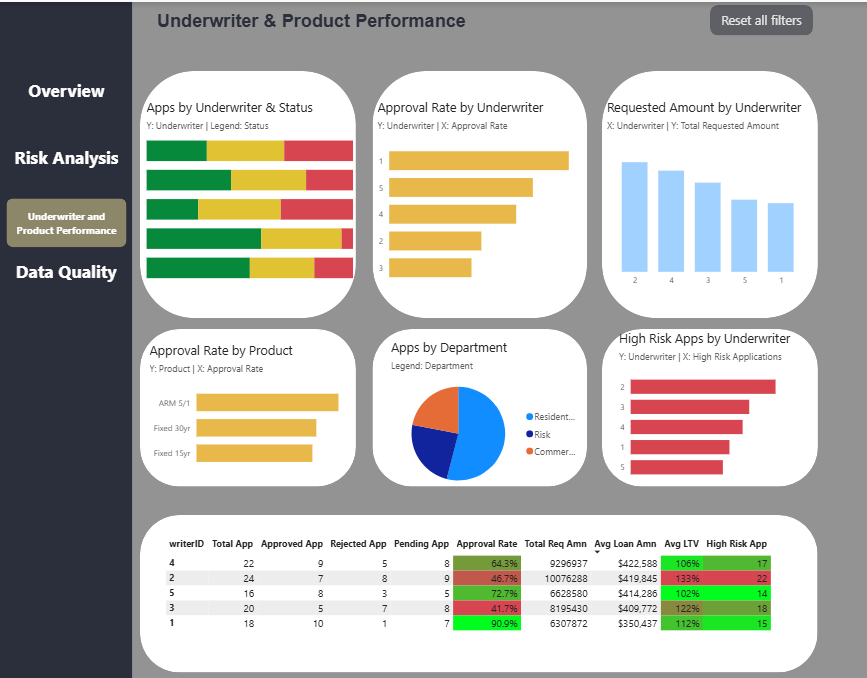

The dashboard page shown, as its layout file describes it:
{"tool":"powerbi","page":{"name":"Underwriter and Product Performance","canvas":[1280,1000],"ordinal":2},"visuals":[{"type":"shape","box":[0,0,196,1000],"z":0},{"type":"actionButton","box":[11.1,101.1,176.7,55.6],"z":1000},{"type":"actionButton","box":[11.7,201.7,176.7,55],"z":2000},{"type":"actionButton","box":[11.7,288.3,176.7,71.7],"z":3000},{"type":"textbox","title":"fdg","box":[212,4,496,44],"z":4000},{"type":"shape","box":[1046.7,3.5,151.7,45],"z":5000},{"type":"shape","box":[208,102,318,364],"z":6000},{"type":"shape","box":[550,102,316,364],"z":7000},{"type":"shape","box":[888,102,318,364],"z":8000},{"type":"shape","box":[208,482,318,232],"z":9000},{"type":"shape","box":[550,482,316,232],"z":10000},{"type":"shape","box":[888,482,318,232],"z":11000},{"type":"hundredPercentStackedBarChart","title":" Apps by Underwriter & Status","fields":{"Category":["DimUnderwriters.UnderwriterID"],"Series":["FactApplications.Status"],"Y":["Mesures.Total Applications"]},"box":[212,142,314,272],"z":12000},{"type":"clusteredBarChart","title":"Approval Rate by Underwriter","fields":{"Category":["DimUnderwriters.UnderwriterID"],"Y":["Mesures.Approval Rate"]},"box":[552,142,318,286],"z":13000},{"type":"clusteredColumnChart","title":"Requested Amount by Underwriter","fields":{"Category":["DimUnderwriters.UnderwriterID"],"Y":["Mesures.Total Requested Amount"]},"box":[890,142,308,286],"z":14000},{"type":"clusteredBarChart","title":"Approval Rate by Product","fields":{"Category":["DimProducts.ProductName"],"Y":["Mesures.Approval Rate"]},"box":[216,500,318,200],"z":15000},{"type":"pieChart","title":"Apps by Department","fields":{"Category":["DimUnderwriters.Department"],"Y":["Mesures.Total Applications"]},"box":[572,494,294,232],"z":16000},{"type":"clusteredBarChart","title":"High Risk Apps by Underwriter","fields":{"Category":["DimUnderwriters.UnderwriterID"],"Y":["Mesures.High Risk Applications"]},"box":[908,482,318,232],"z":17000},{"type":"shape","box":[208,756,998,232],"z":18000},{"type":"pivotTable","fields":{"Rows":["DimUnderwriters.UnderwriterID"],"Values":["Mesures.Total Applications","Mesures.Approved Applications","Mesures.Rejected Applications","Mesures.Pending Applications","Mesures.Approval Rate","Mesures.Total Requested Amount","Mesures.Average Loan Amount","Mesures.Average LTV","Mesures.High Risk Applications"]},"box":[240,782,930,178],"z":19000},{"type":"actionButton","box":[10,360,176,72],"z":20000}]}

Visuals, with their boxes in screenshot pixels (x1, y1, x2, y2), scaled from the page's 1280x1000 canvas onto the 867x678 screenshot:
shape: {"x1": 0, "y1": 0, "x2": 133, "y2": 677}
actionButton: {"x1": 8, "y1": 69, "x2": 127, "y2": 106}
actionButton: {"x1": 8, "y1": 137, "x2": 128, "y2": 174}
actionButton: {"x1": 8, "y1": 195, "x2": 128, "y2": 244}
"fdg" textbox: {"x1": 144, "y1": 3, "x2": 480, "y2": 33}
shape: {"x1": 709, "y1": 2, "x2": 812, "y2": 33}
shape: {"x1": 141, "y1": 69, "x2": 356, "y2": 316}
shape: {"x1": 373, "y1": 69, "x2": 587, "y2": 316}
shape: {"x1": 601, "y1": 69, "x2": 817, "y2": 316}
shape: {"x1": 141, "y1": 327, "x2": 356, "y2": 484}
shape: {"x1": 373, "y1": 327, "x2": 587, "y2": 484}
shape: {"x1": 601, "y1": 327, "x2": 817, "y2": 484}
" Apps by Underwriter & Status" hundredPercentStackedBarChart: {"x1": 144, "y1": 96, "x2": 356, "y2": 281}
"Approval Rate by Underwriter" clusteredBarChart: {"x1": 374, "y1": 96, "x2": 589, "y2": 290}
"Requested Amount by Underwriter" clusteredColumnChart: {"x1": 603, "y1": 96, "x2": 811, "y2": 290}
"Approval Rate by Product" clusteredBarChart: {"x1": 146, "y1": 339, "x2": 362, "y2": 475}
"Apps by Department" pieChart: {"x1": 387, "y1": 335, "x2": 587, "y2": 492}
"High Risk Apps by Underwriter" clusteredBarChart: {"x1": 615, "y1": 327, "x2": 830, "y2": 484}
shape: {"x1": 141, "y1": 513, "x2": 817, "y2": 670}
pivotTable - DimUnderwriters.UnderwriterID x Mesures.Total Applications: {"x1": 163, "y1": 530, "x2": 792, "y2": 651}
actionButton: {"x1": 7, "y1": 244, "x2": 126, "y2": 293}
